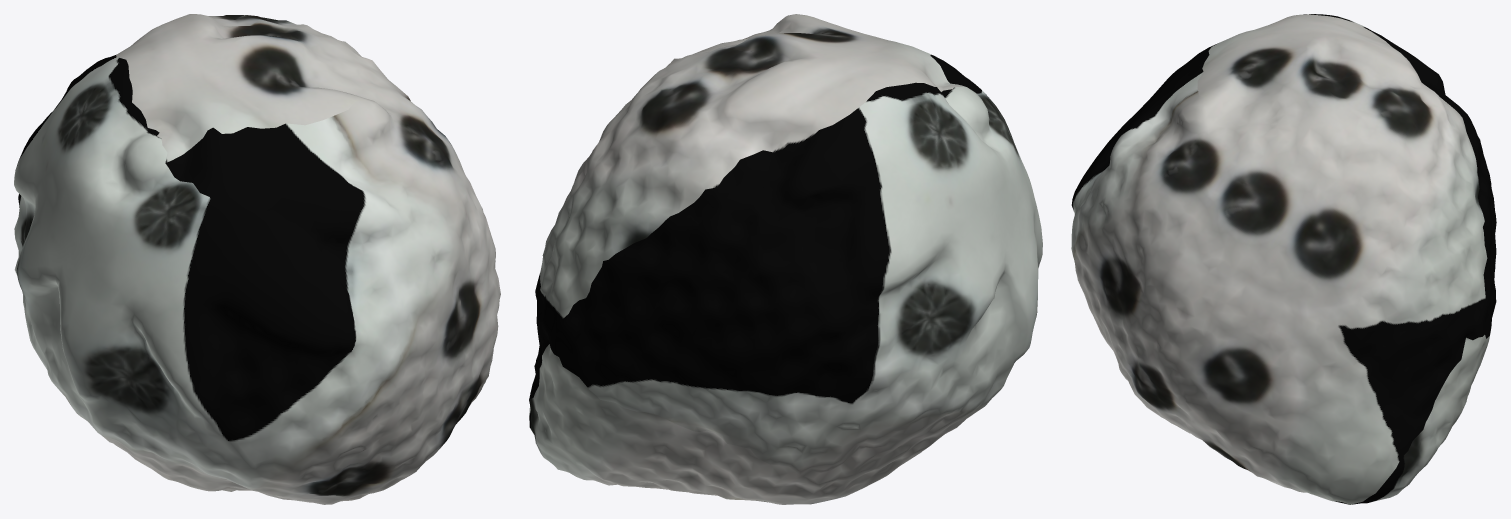
The picture shows the model from 3 angles, left to right: view 1: azimuth 30°, elevation 25°; view 2: azimuth 150°, elevation 25°; view 3: azimuth 270°, elevation 25°; orthographic projection. The views are drawn at different scales.
Visible parts, largest first — view 1: textured.011; view 2: textured.011; view 3: textured.011.
Boxes of the visible parts, x1,y1,x2,y2 form: textured.011: (14, 14, 500, 504); textured.011: (529, 14, 1042, 504); textured.011: (1071, 14, 1496, 504).
Bounding box in the file's own units: 0.0453 × 0.0452 × 0.0457.
